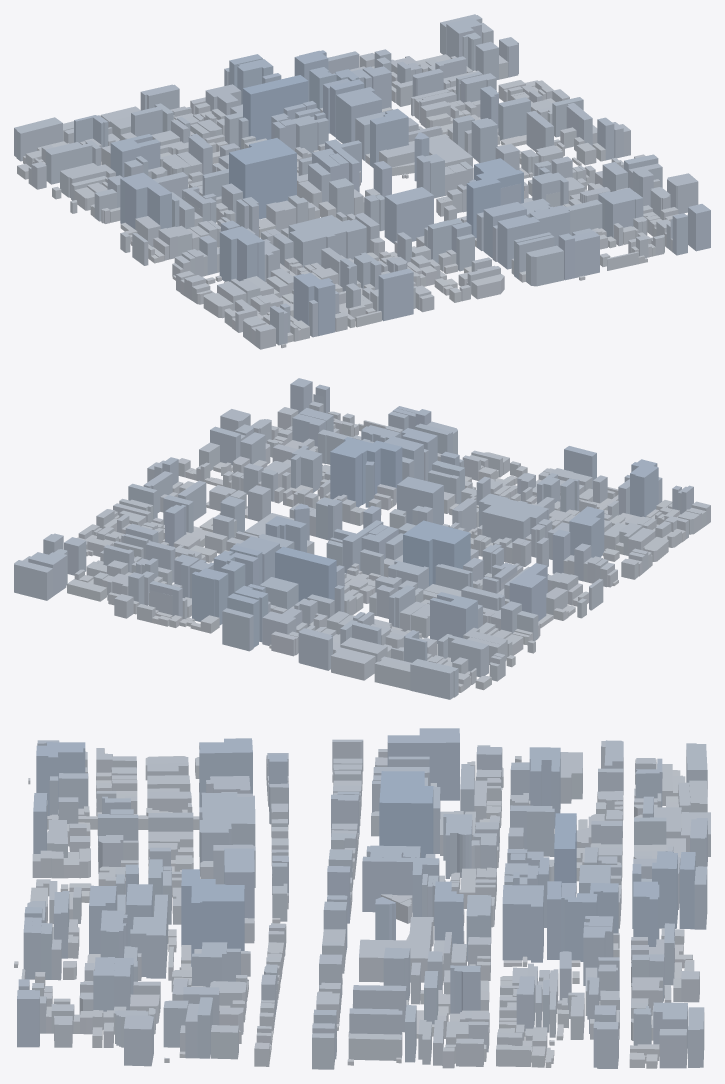
3 renders of one model, top to bottom at view 1: azimuth 30°, elevation 25°; view 2: azimuth 150°, elevation 25°; view 3: azimuth 270°, elevation 25°, orthographic. The views are drawn at different scales.
Bounding box in the file's own units: 507 × 61.11 × 496.
